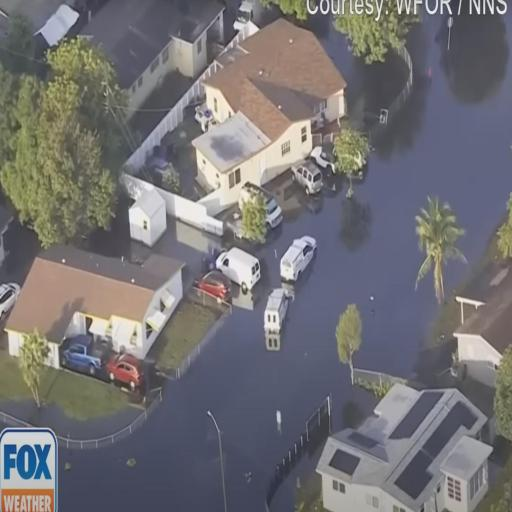flood: (58, 41, 512, 510), (407, 2, 512, 103), (437, 12, 510, 102)
house: (192, 20, 348, 203), (4, 243, 188, 374), (314, 382, 494, 511), (453, 260, 512, 367)
